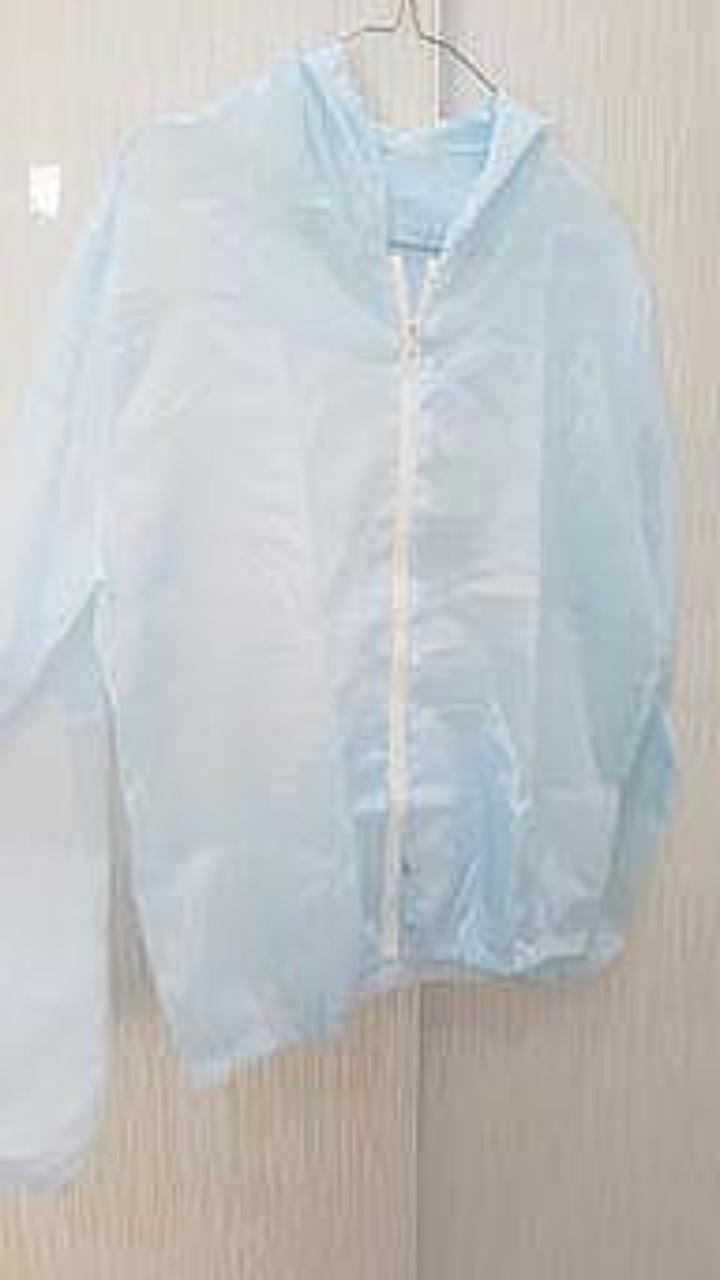Sports_Jacket: (0, 38, 677, 1183)
